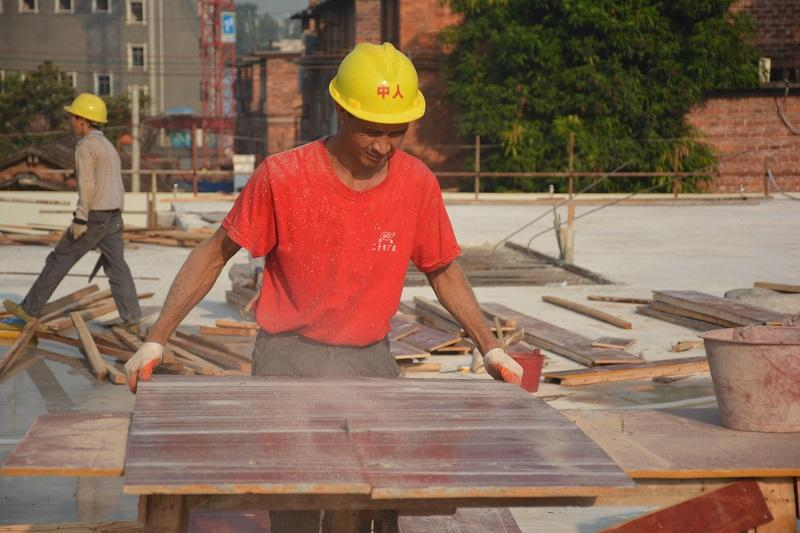helmet: (331, 42, 430, 124), (63, 95, 109, 126)
